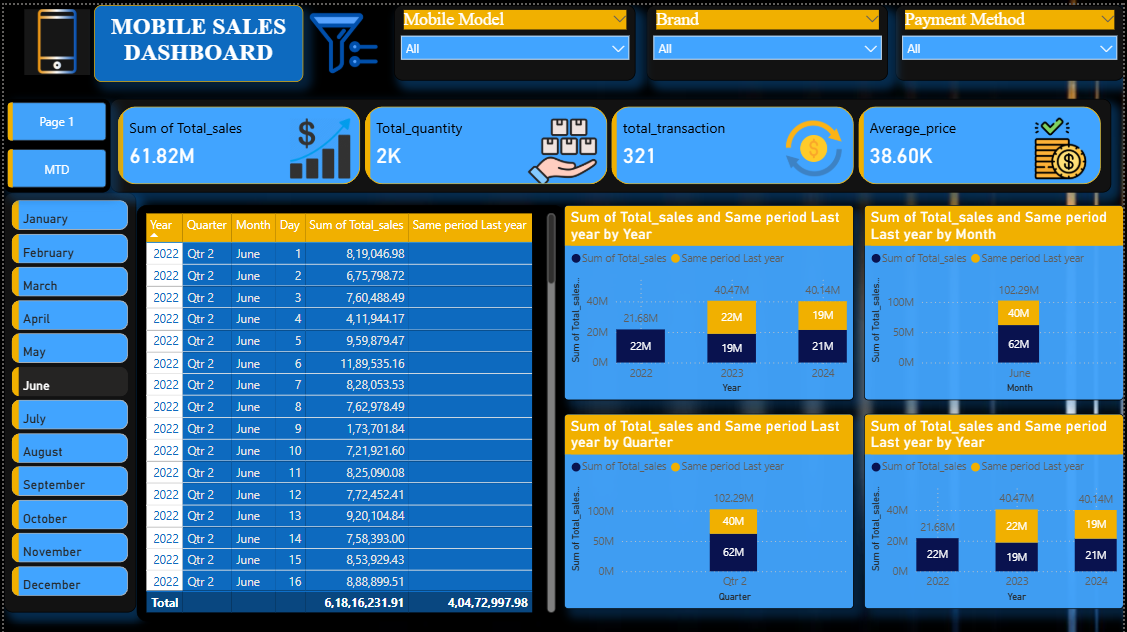

This screenshot's page, from the dashboard's own definition file:
{"tool":"powerbi","page":{"name":"Sales Last Year","canvas":[1280,720],"ordinal":2},"visuals":[{"type":"advancedSlicerVisual","fields":{"Values":["Custom Calendar.Date_calendar.Variation.Date Hierarchy.Month"]},"box":[0,214.3,151.4,480],"z":0},{"type":"cardVisual","fields":{"Data":["Sum(Sheet1.Total_sales)","Sheet1.Total_quantity","Sheet1.total_transaction","Sheet1.Average_price"]},"box":[121.4,107.1,1144.3,107.1],"z":1000},{"type":"image","box":[0,0,121.4,85.7],"z":2000},{"type":"slicer","fields":{"Values":["Sheet1.Payment Method"]},"box":[1018.8,0,261.2,86.2],"z":3000},{"type":"slicer","fields":{"Values":["Sheet1.Brand"]},"box":[733.8,0,276.2,86.2],"z":4000},{"type":"slicer","fields":{"Values":["Sheet1.Mobile Model"]},"box":[446.2,0,276.2,86.2],"z":5000},{"type":"image","box":[341.2,0,93.8,87.5],"z":6000},{"type":"textbox","box":[121.2,0,220,86.2],"z":7000},{"type":"tableEx","fields":{"Values":["Custom Calendar.Date_calendar.Variation.Date Hierarchy.Year","Custom Calendar.Date_calendar.Variation.Date Hierarchy.Quarter","Custom Calendar.Date_calendar.Variation.Date Hierarchy.Month","Custom Calendar.Date_calendar.Variation.Date Hierarchy.Day","Sum(Sheet1.Total_sales)","Sheet1.Same period Last year"]},"box":[151.4,228.6,488.6,475.7],"z":8000},{"type":"columnChart","fields":{"Category":["Custom Calendar.Date_calendar.Variation.Date Hierarchy.Year","Custom Calendar.Date_calendar.Variation.Date Hierarchy.Quarter","Custom Calendar.Date_calendar.Variation.Date Hierarchy.Month","Custom Calendar.Date_calendar.Variation.Date Hierarchy.Day"],"Y":["Sum(Sheet1.Total_sales)","Sheet1.Same period Last year"]},"box":[640,228.6,331.4,222.9],"z":9000},{"type":"columnChart","fields":{"Category":["Custom Calendar.Date_calendar.Variation.Date Hierarchy.Month"],"Y":["Sum(Sheet1.Total_sales)","Sheet1.Same period Last year"]},"box":[982.9,228.6,297.1,222.9],"z":10000},{"type":"columnChart","fields":{"Category":["Custom Calendar.Date_calendar.Variation.Date Hierarchy.Quarter"],"Y":["Sum(Sheet1.Total_sales)","Sheet1.Same period Last year"]},"box":[640,467.1,331.4,222.9],"z":11000},{"type":"columnChart","fields":{"Category":["Custom Calendar.Date_calendar.Variation.Date Hierarchy.Year","Custom Calendar.Date_calendar.Variation.Date Hierarchy.Quarter"],"Y":["Sum(Sheet1.Total_sales)","Sheet1.Same period Last year"]},"box":[982.9,467.1,297.1,222.9],"z":12000},{"type":"pageNavigator","box":[0,107.1,121.4,107.1],"z":12001}]}

Visuals, with their boxes in screenshot pixels (x1, y1, x2, y2), scaled from the page's 1280x720 canvas onto the 1127x632 screenshot:
advancedSlicerVisual - Custom Calendar.Date_calendar.Variation.Date Hierarchy.Month: 0:188:133:609
cardVisual - Sum(Sheet1.Total_sales) x Sheet1.Total_quantity: 107:94:1114:188
image: 0:0:107:75
slicer - Sheet1.Payment Method: 897:0:1126:76
slicer - Sheet1.Brand: 646:0:889:76
slicer - Sheet1.Mobile Model: 393:0:636:76
image: 300:0:383:77
textbox: 107:0:300:76
tableEx - Custom Calendar.Date_calendar.Variation.Date Hierarchy.Year x Custom Calendar.Date_calendar.Variation.Date Hierarchy.Quarter: 133:201:564:618
columnChart - Custom Calendar.Date_calendar.Variation.Date Hierarchy.Year x Custom Calendar.Date_calendar.Variation.Date Hierarchy.Quarter: 564:201:855:396
columnChart - Custom Calendar.Date_calendar.Variation.Date Hierarchy.Month x Sum(Sheet1.Total_sales): 865:201:1126:396
columnChart - Custom Calendar.Date_calendar.Variation.Date Hierarchy.Quarter x Sum(Sheet1.Total_sales): 564:410:855:606
columnChart - Custom Calendar.Date_calendar.Variation.Date Hierarchy.Year x Custom Calendar.Date_calendar.Variation.Date Hierarchy.Quarter: 865:410:1126:606
pageNavigator: 0:94:107:188
